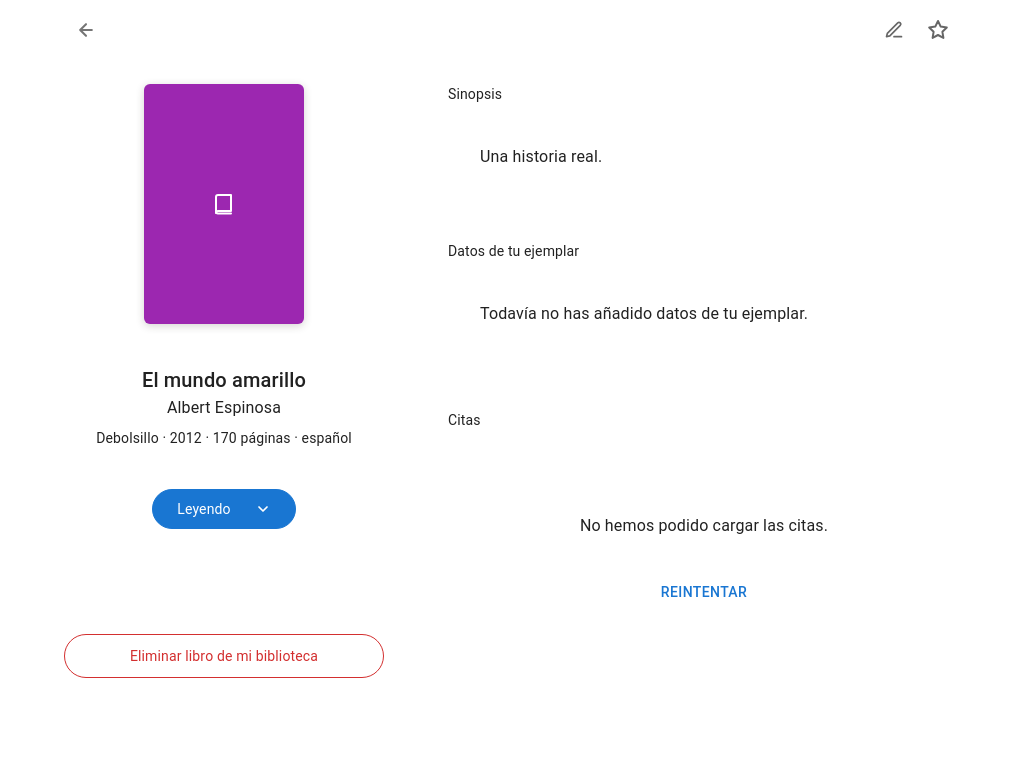
Test case: Given the book detail page › When saving the favorite fails › Then the star goes back and an error is shown
Click the button named "Añadir a favoritos" at (938, 30), box left=916, top=8, right=960, bottom=52
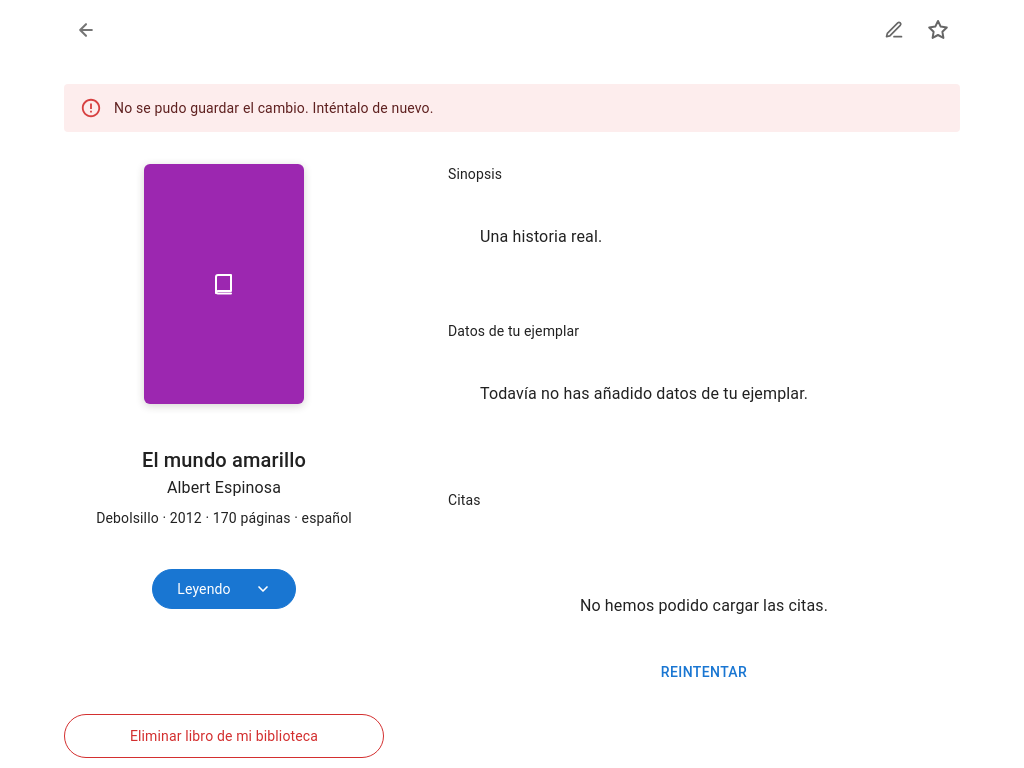
expect the text "No se pudo guardar el cambio. Inténtalo de nuevo." is shown: met, box left=114, top=100, right=434, bottom=116
